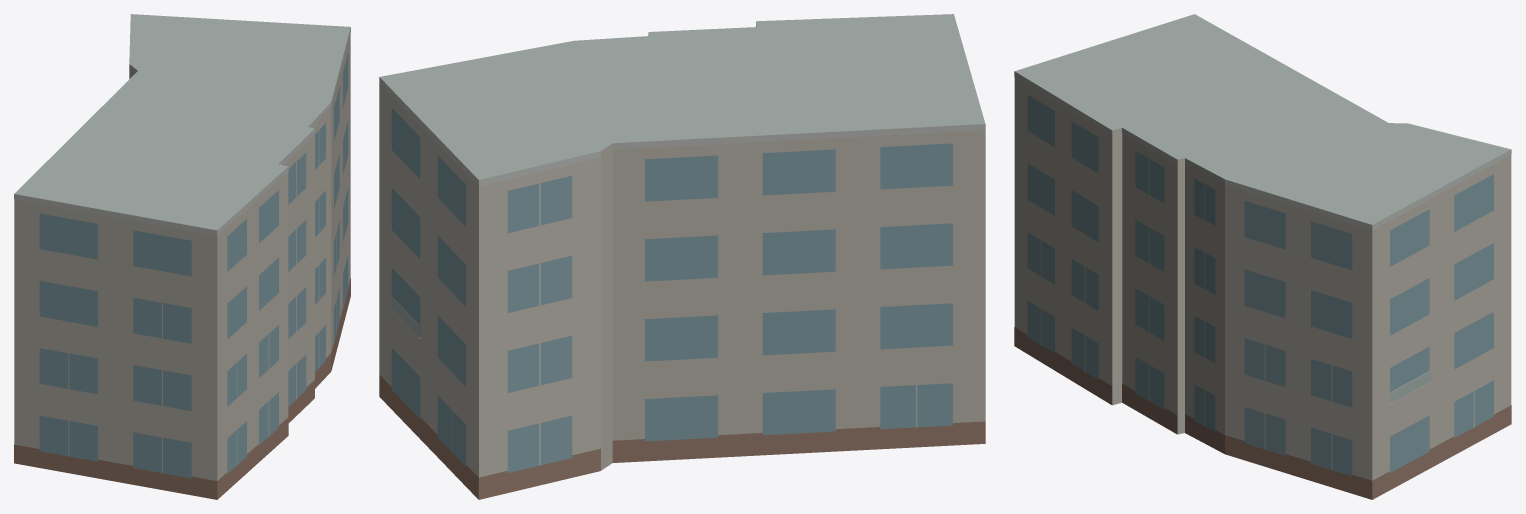
The model's file is survey-upis-32699703.glb.
3 renders of one model, left to right at view 1: azimuth 30°, elevation 25°; view 2: azimuth 150°, elevation 25°; view 3: azimuth 270°, elevation 25°, orthographic. The views are drawn at different scales.
Parts seen in each view (by area): view 1: survey-upis-32699703.tmp; view 2: survey-upis-32699703.tmp; view 3: survey-upis-32699703.tmp.
Boxes of the visible parts, x1=… form: survey-upis-32699703.tmp: x1=14, y1=14, x2=350, y2=499; survey-upis-32699703.tmp: x1=379, y1=14, x2=985, y2=499; survey-upis-32699703.tmp: x1=1014, y1=14, x2=1511, y2=499.
Bounding box in the file's own units: 20.08 × 12.2 × 19.99.
